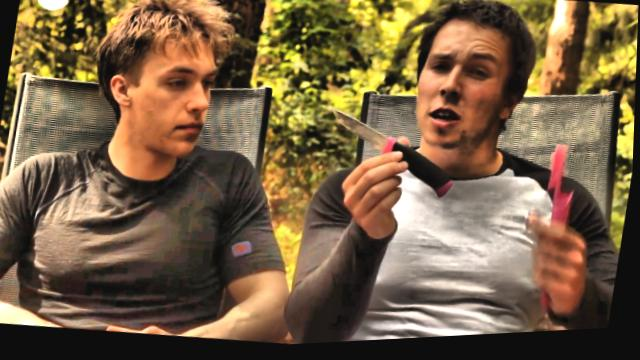knife: (309, 98, 469, 220)
